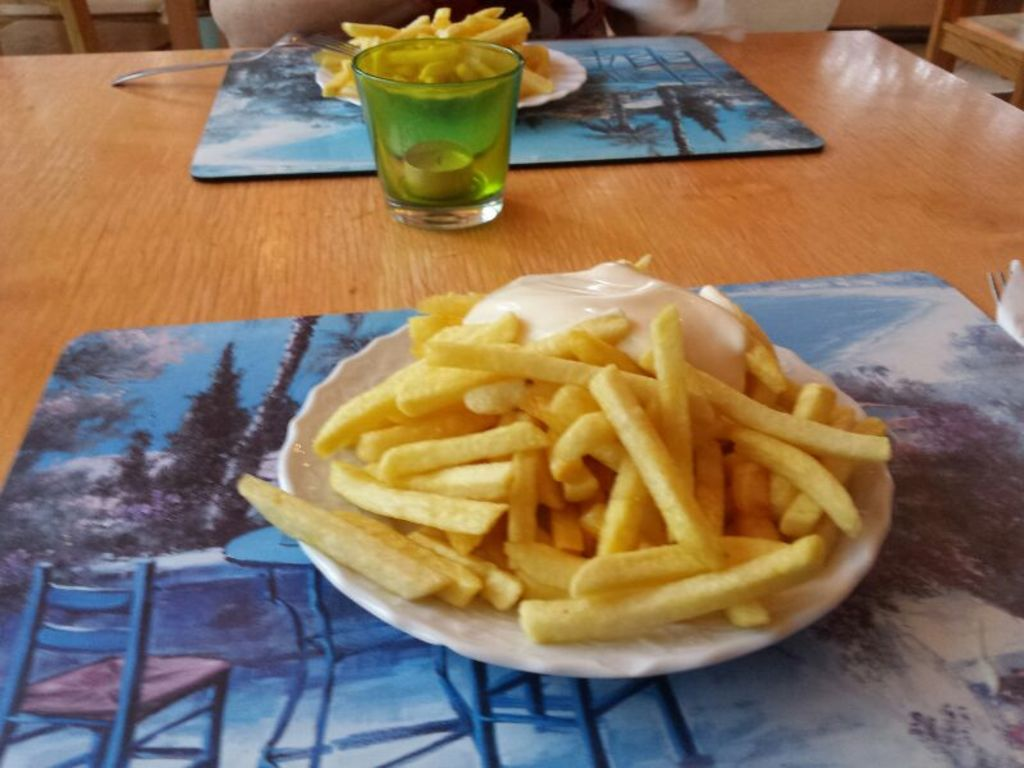French fries: (235, 280, 894, 633), (317, 6, 549, 104)
